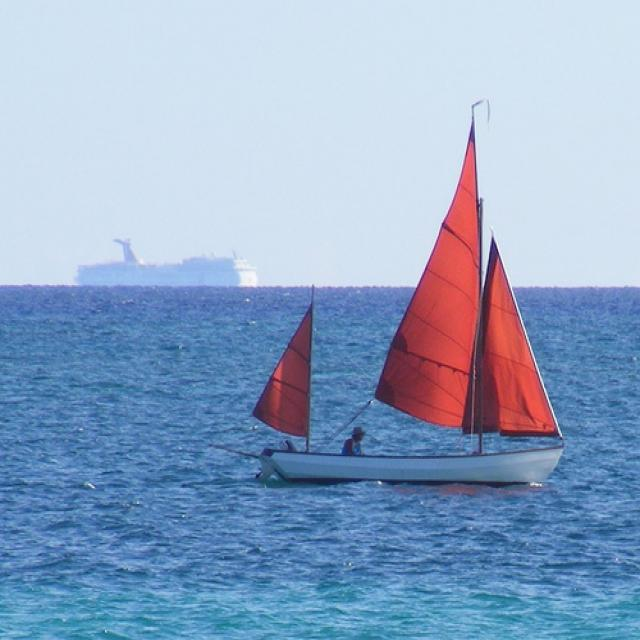Ship: (220, 96, 572, 495)
